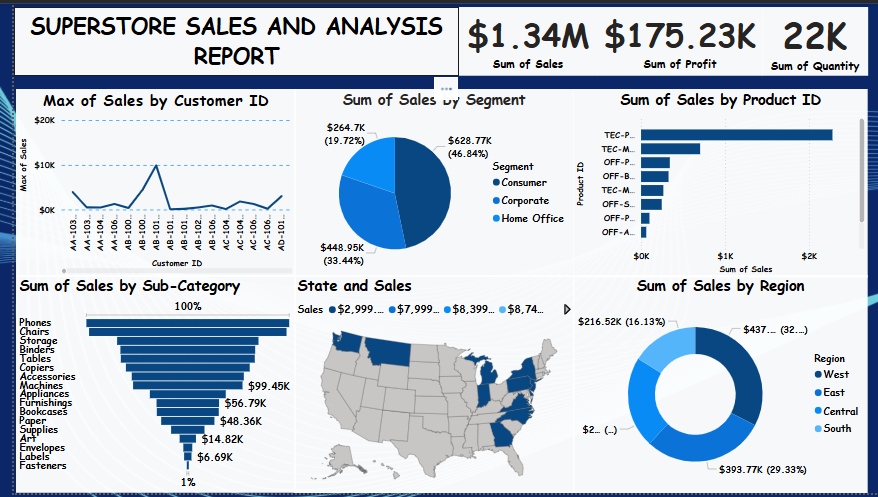

What the dashboard file says about the page in this screenshot:
{"tool":"powerbi","page":{"name":"Page 1","canvas":[1280,720],"ordinal":0},"visuals":[{"type":"donutChart","fields":{"Category":["Orders.Region"],"Y":["Sum(Orders.Sales)"]},"box":[821.4,399.8,433.4,320.8],"z":0},{"type":"funnel","fields":{"Y":["Sum(Orders.Sales)"],"Category":["Orders.Sub-Category"]},"box":[2.9,399.7,411.4,320.3],"z":1000},{"type":"pieChart","fields":{"Category":["Orders.Segment"],"Y":["Sum(Orders.Sales)"]},"box":[411.4,126.4,411.4,276.2],"z":2000},{"type":"shapeMap","fields":{"Category":["Orders.State"],"Series":["Orders.Sales"]},"box":[411.5,399.8,411.5,320.8],"z":3000},{"type":"lineChart","fields":{"Category":["Orders.Customer ID"],"Y":["Max(Orders.Sales)"]},"box":[2.9,126.4,411.4,276.2],"z":4000},{"type":"card","fields":{"Values":["Sum(Orders.Sales)"]},"box":[653.9,5.9,202.8,101.4],"z":5000},{"type":"card","fields":{"Values":["Sum(Orders.Profit)"]},"box":[856.1,5.2,243.5,100.8],"z":6000},{"type":"card","fields":{"Values":["Sum(Orders.Quantity)"]},"box":[1099.1,5.9,155.8,101.4],"z":7000},{"type":"barChart","fields":{"Category":["Orders.Product ID"],"Y":["Sum(Orders.Sales)"]},"box":[821.4,126,433.4,277.2],"z":8000},{"type":"textbox","box":[0,5.9,653.9,101.4],"z":9000}]}

Visuals, with their boxes in screenshot pixels (x1, y1, x2, y2), scaled from the page's 1280x720 canvas onto the 878x497 screenshot:
donutChart - Orders.Region x Sum(Orders.Sales): select_region(563, 276, 861, 496)
funnel - Sum(Orders.Sales) x Orders.Sub-Category: select_region(2, 276, 284, 496)
pieChart - Orders.Segment x Sum(Orders.Sales): select_region(282, 87, 564, 278)
shapeMap - Orders.State x Orders.Sales: select_region(282, 276, 565, 496)
lineChart - Orders.Customer ID x Max(Orders.Sales): select_region(2, 87, 284, 278)
card - Sum(Orders.Sales): select_region(449, 4, 588, 74)
card - Sum(Orders.Profit): select_region(587, 4, 754, 73)
card - Sum(Orders.Quantity): select_region(754, 4, 861, 74)
barChart - Orders.Product ID x Sum(Orders.Sales): select_region(563, 87, 861, 278)
textbox: select_region(0, 4, 449, 74)
